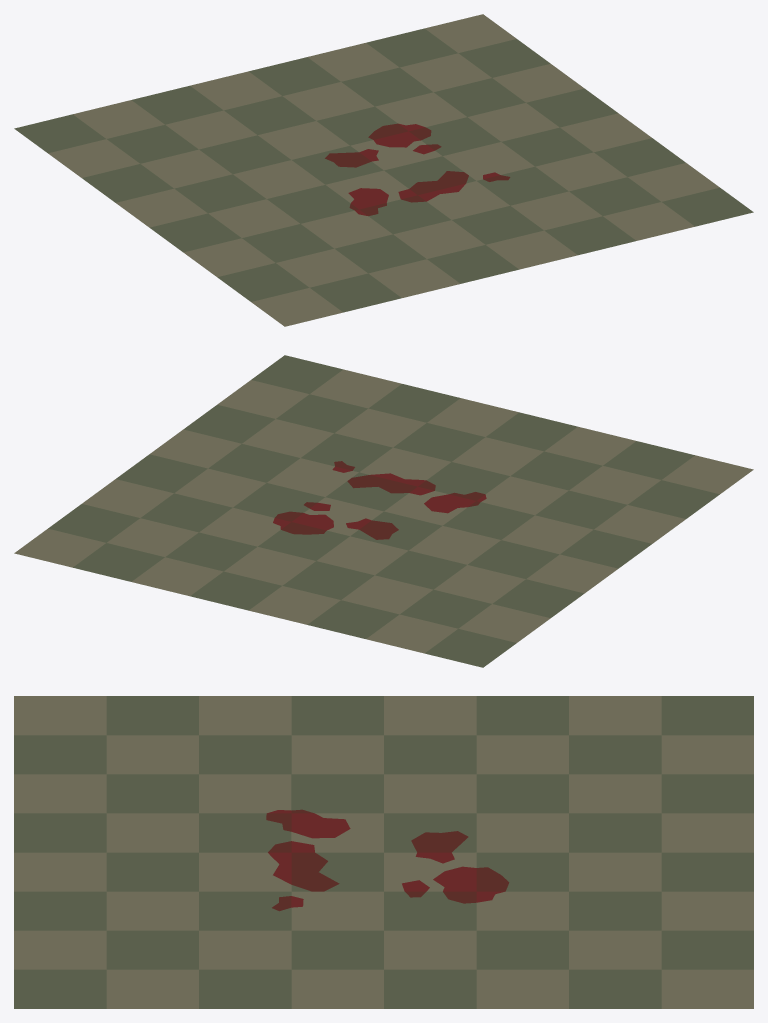
Rendered from AI_Env_Floor_03_Bloodstained_Large.fbx.
3 renders of one model, top to bottom at view 1: azimuth 30°, elevation 25°; view 2: azimuth 150°, elevation 25°; view 3: azimuth 270°, elevation 25°, orthographic. The views are drawn at different scales.
Visible parts, largest first — view 1: AI_Env_Floor_03_Bloodstained_Large; view 2: AI_Env_Floor_03_Bloodstained_Large; view 3: AI_Env_Floor_03_Bloodstained_Large.
Boxes of the visible parts, x1=… form: AI_Env_Floor_03_Bloodstained_Large: x1=14, y1=14, x2=753, y2=326; AI_Env_Floor_03_Bloodstained_Large: x1=14, y1=355, x2=753, y2=667; AI_Env_Floor_03_Bloodstained_Large: x1=14, y1=696, x2=753, y2=1008.
Size of the model in its own units: 10 by 1.78e-15 by 10.
